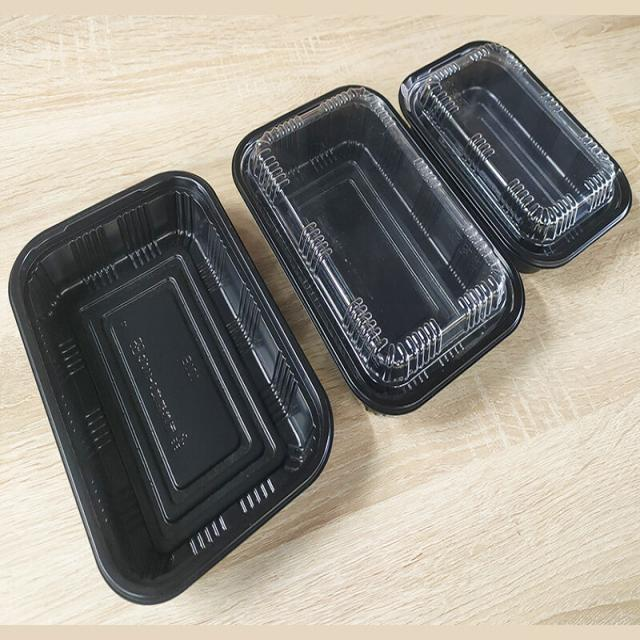plastic: (13, 170, 330, 602), (232, 80, 532, 408), (403, 37, 634, 253)
